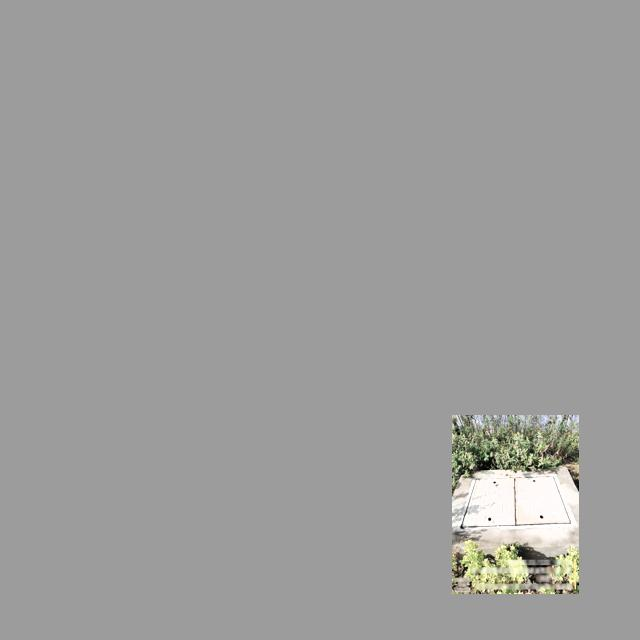good: (457, 473, 578, 531)
